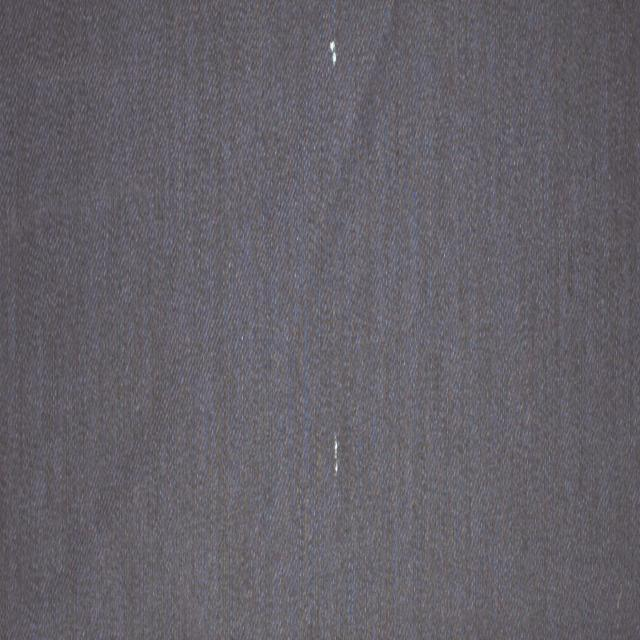Knot: (330, 40, 337, 64)
